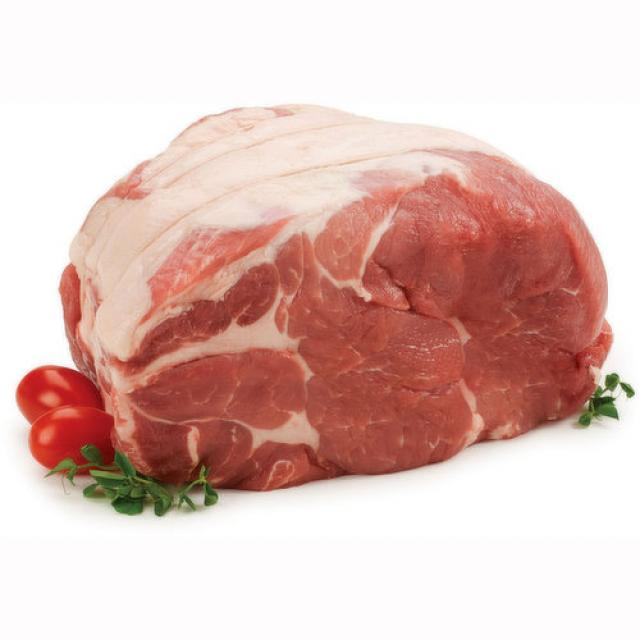pork: (60, 105, 614, 491)
